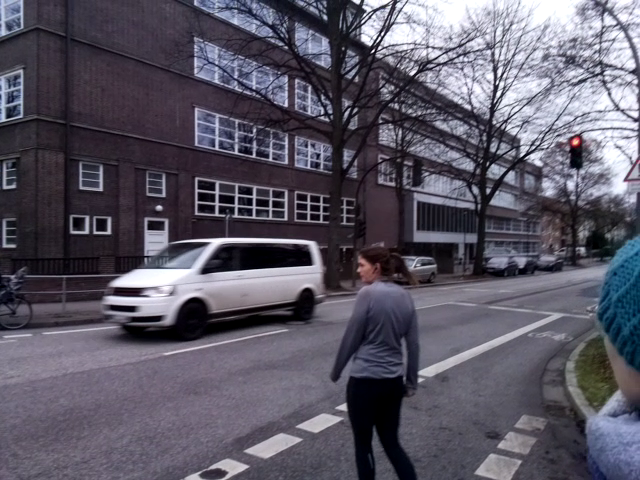car: (100, 236, 326, 345)
